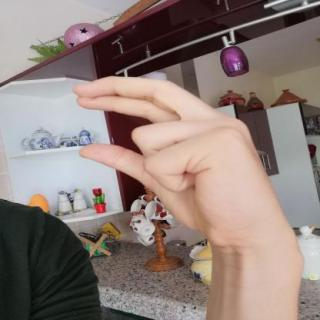DHELL: (63, 68, 300, 252)
